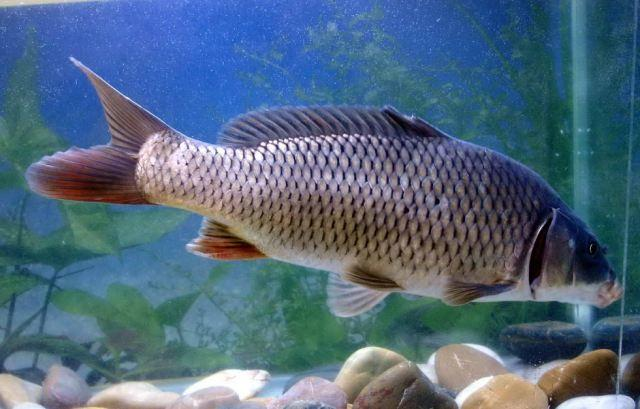Mulut: (587, 255, 640, 336)
Sirip Anal: (183, 217, 275, 263)
Sirip Dada: (437, 270, 515, 308)
Sirip Ekor: (24, 51, 179, 207)
Sirip Perut: (325, 267, 388, 317), (350, 263, 402, 294)
Sirip Punggung: (214, 105, 452, 148)
